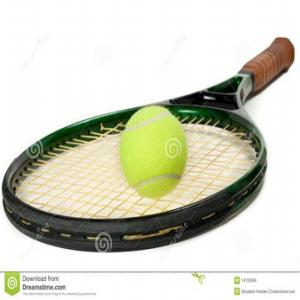Tennis: (117, 103, 188, 199)
